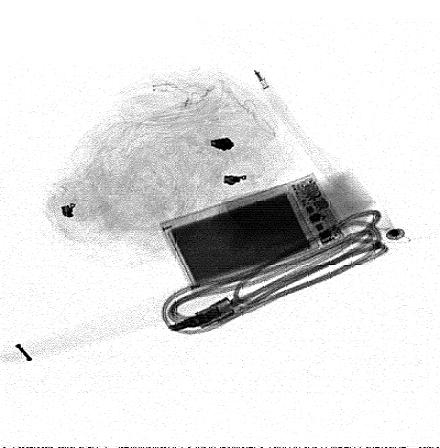Powerbank: (158, 171, 354, 293)
